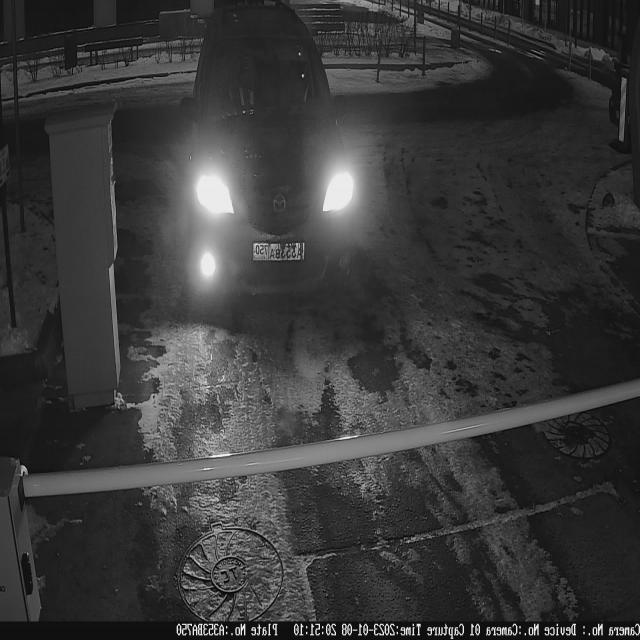car-plate-numbers: (251, 237, 310, 271)
